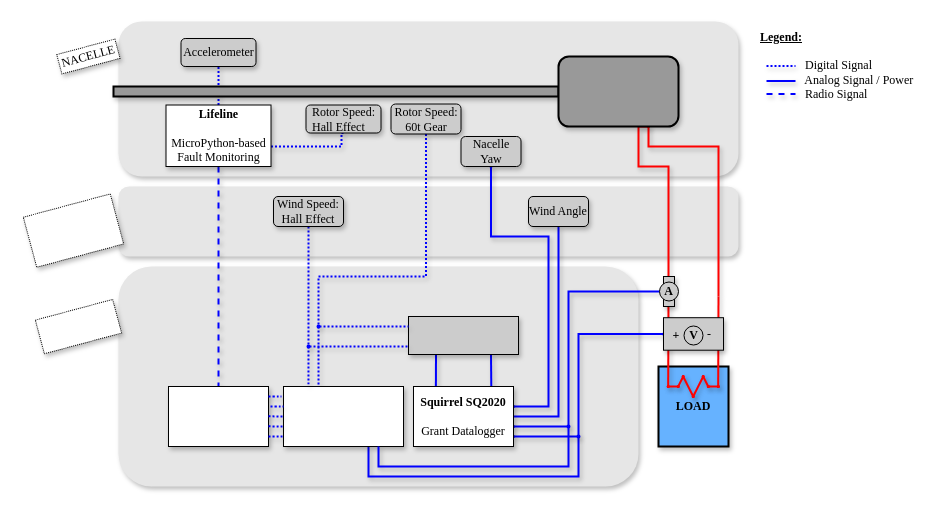
Some shapes in this 941 by 510 pixel diagram are drawn without their labels. Each missing label, with the centre of its shape:
"ELECTRICAL BOX" belongs at (79,327).
"Frequency -> Voltage Converter" belongs at (464,337).
"GENERATOR" belongs at (619,92).
"NUCLEO L476RG MicroPython-based Controller" belongs at (344,418).
"Raspberry Pi 3B Datalogger" belongs at (219,418).
"WIND MEASURING SECTION" belongs at (74,232).
